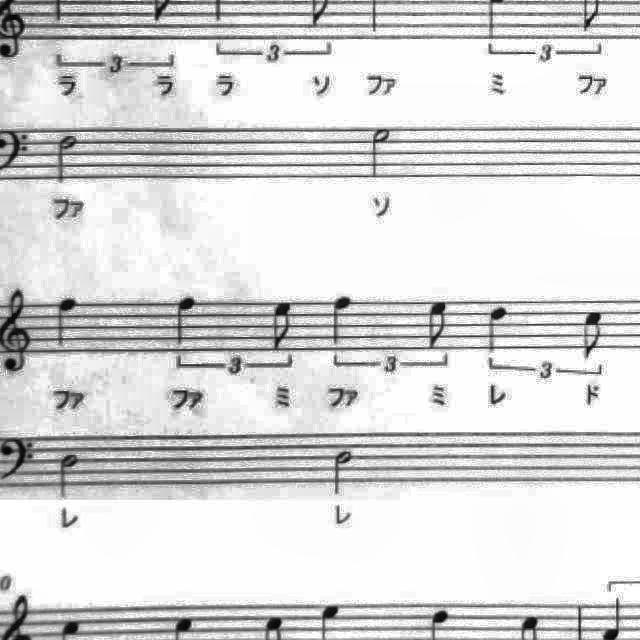Bass-clef: (0, 429, 40, 489)
Eighth-note: (573, 308, 611, 367), (266, 294, 302, 354), (420, 295, 456, 353)
Half-note: (365, 121, 399, 183), (50, 130, 84, 190), (52, 448, 86, 504), (328, 444, 360, 500)
Quarter-note: (48, 292, 84, 352), (480, 298, 516, 357), (168, 291, 202, 349), (326, 290, 359, 348)
Treble-clef: (0, 282, 38, 378)
